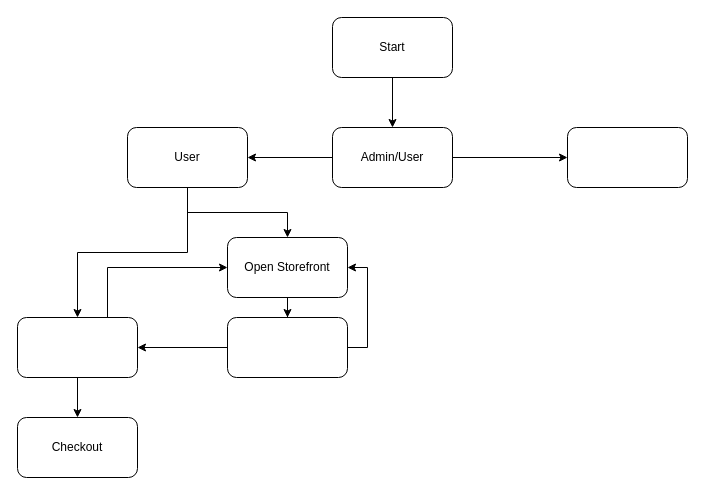
Image size: 705x495. Some labels were removed from this diagram. The box of each missing label's shape, as (x1, y1, x2, y2) in pixels:
Add to cart: (226, 316, 348, 378)
Admin: (566, 126, 688, 188)
Open Cart: (16, 316, 138, 378)
